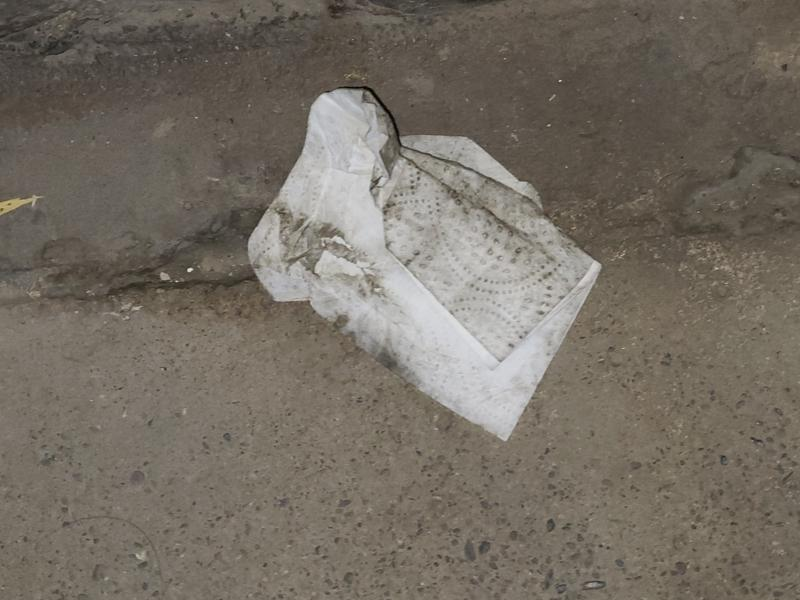papel: (245, 87, 602, 443)
